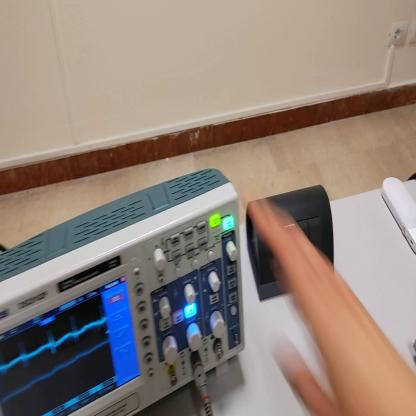hand: (251, 200, 416, 416)
oscilloscope: (1, 168, 245, 415)
